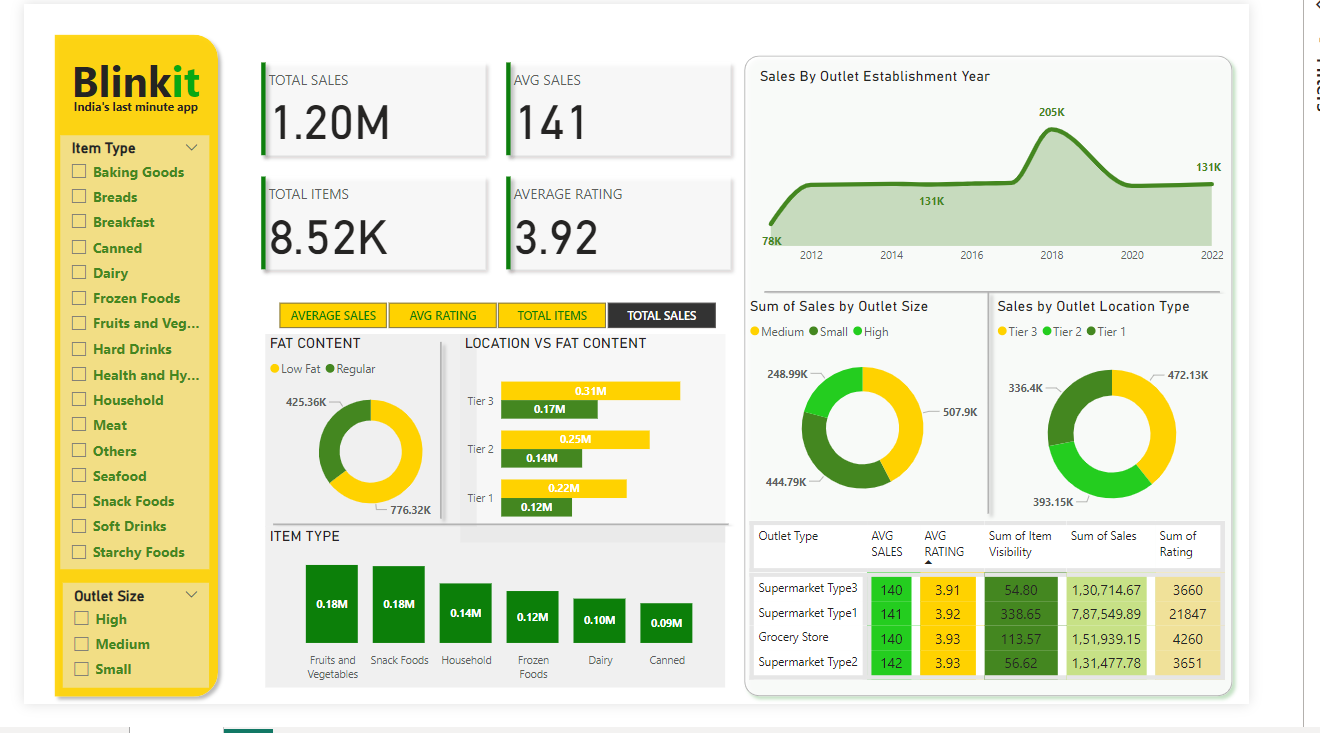

This screenshot's page, from the dashboard's own definition file:
{"tool":"powerbi","page":{"name":"Page 1","canvas":[1400,800],"ordinal":0},"visuals":[{"type":"shape","box":[25,25,205,775],"z":0},{"type":"textbox","box":[41.1,50,172.2,81.1],"z":1000},{"type":"textbox","box":[44.4,103.3,166.7,27.8],"z":2000},{"type":"cardVisual","fields":{"Data":["Sum(BlinkIT Grocery Data.Sales)","BlinkIT Grocery Data.AVERAGE SALES","BlinkIT Grocery Data.TOTAL ITEMS","Avg(BlinkIT Grocery Data.Rating)"]},"box":[254.3,50,570,270],"z":3000},{"type":"shape","box":[814.3,50,575.7,750],"z":4000},{"type":"slicer","fields":{"Values":["Parameter 1.Parameter 1"]},"box":[265.7,334.3,548.6,42.9],"z":5000},{"type":"donutChart","title":"FAT CONTENT","fields":{"Y":["BlinkIT Grocery Data.TOTAL SALES"],"Category":["BlinkIT Grocery Data.Item Fat Content"]},"box":[275.7,377.1,241.4,220],"z":6000},{"type":"clusteredBarChart","title":"LOCATION VS FAT CONTENT","fields":{"Y":["BlinkIT Grocery Data.TOTAL SALES"],"Category":["BlinkIT Grocery Data.Outlet Location Type"],"Series":["BlinkIT Grocery Data.Item Fat Content"]},"box":[498.6,377.1,302.9,238.6],"z":7000},{"type":"columnChart","title":"ITEM TYPE","fields":{"Y":["BlinkIT Grocery Data.TOTAL SALES"],"Category":["BlinkIT Grocery Data.Item Type"]},"box":[275.7,597.1,525.7,184.3],"z":8000},{"type":"areaChart","title":"Sales By Outlet Establishment Year","fields":{"Category":["BlinkIT Grocery Data.Outlet Establishment Year"],"Y":["BlinkIT Grocery Data.TOTAL SALES"]},"box":[835.7,71.4,540,234.3],"z":9000},{"type":"shape","box":[275.7,585.7,538.6,11.4],"z":10000},{"type":"shape","box":[454.3,377.1,44.3,220],"z":11000},{"type":"shape","box":[837.1,320,538.6,11.4],"z":12000},{"type":"donutChart","fields":{"Y":["Sum(BlinkIT Grocery Data.Sales)"],"Category":["BlinkIT Grocery Data.Outlet Size"]},"box":[824.3,334.3,268.6,251.4],"z":13000},{"type":"pivotTable","fields":{"Rows":["BlinkIT Grocery Data.Outlet Type"],"Values":["BlinkIT Grocery Data.AVG SALES","BlinkIT Grocery Data.AVG RATING","Sum(BlinkIT Grocery Data.Item Visibility)","Sum(BlinkIT Grocery Data.Sales)","Sum(BlinkIT Grocery Data.Rating)"]},"box":[824.3,585.7,575.7,195.7],"z":14000},{"type":"donutChart","title":"Sales by Outlet Location Type","fields":{"Y":["Sum(BlinkIT Grocery Data.Sales)"],"Category":["BlinkIT Grocery Data.Outlet Location Type"]},"box":[1107.1,334.3,272.9,265.7],"z":14001},{"type":"shape","box":[1080,320,44.3,271.4],"z":14002},{"type":"slicer","fields":{"Values":["BlinkIT Grocery Data.Item Type"]},"box":[41.4,150,170,495.7],"z":14003},{"type":"slicer","fields":{"Values":["BlinkIT Grocery Data.Outlet Size"]},"box":[44.3,661.4,167.1,120],"z":14004}]}

Visuals, with their boxes on the page's 1400x800 design canvas (x1, y1, x2, y2). These are canvas units, not pixel positions in the 1320x733 screenshot, which may show the page scaled, cropped or inside an application window:
shape: (25,25,230,800)
textbox: (41,50,213,131)
textbox: (44,103,211,131)
cardVisual - Sum(BlinkIT Grocery Data.Sales) x BlinkIT Grocery Data.AVERAGE SALES: (254,50,824,320)
shape: (814,50,1390,800)
slicer - Parameter 1.Parameter 1: (266,334,814,377)
"FAT CONTENT" donutChart: (276,377,517,597)
"LOCATION VS FAT CONTENT" clusteredBarChart: (499,377,802,616)
"ITEM TYPE" columnChart: (276,597,801,781)
"Sales By Outlet Establishment Year" areaChart: (836,71,1376,306)
shape: (276,586,814,597)
shape: (454,377,499,597)
shape: (837,320,1376,331)
donutChart - Sum(BlinkIT Grocery Data.Sales) x BlinkIT Grocery Data.Outlet Size: (824,334,1093,586)
pivotTable - BlinkIT Grocery Data.Outlet Type x BlinkIT Grocery Data.AVG SALES: (824,586,1400,781)
"Sales by Outlet Location Type" donutChart: (1107,334,1380,600)
shape: (1080,320,1124,591)
slicer - BlinkIT Grocery Data.Item Type: (41,150,211,646)
slicer - BlinkIT Grocery Data.Outlet Size: (44,661,211,781)
